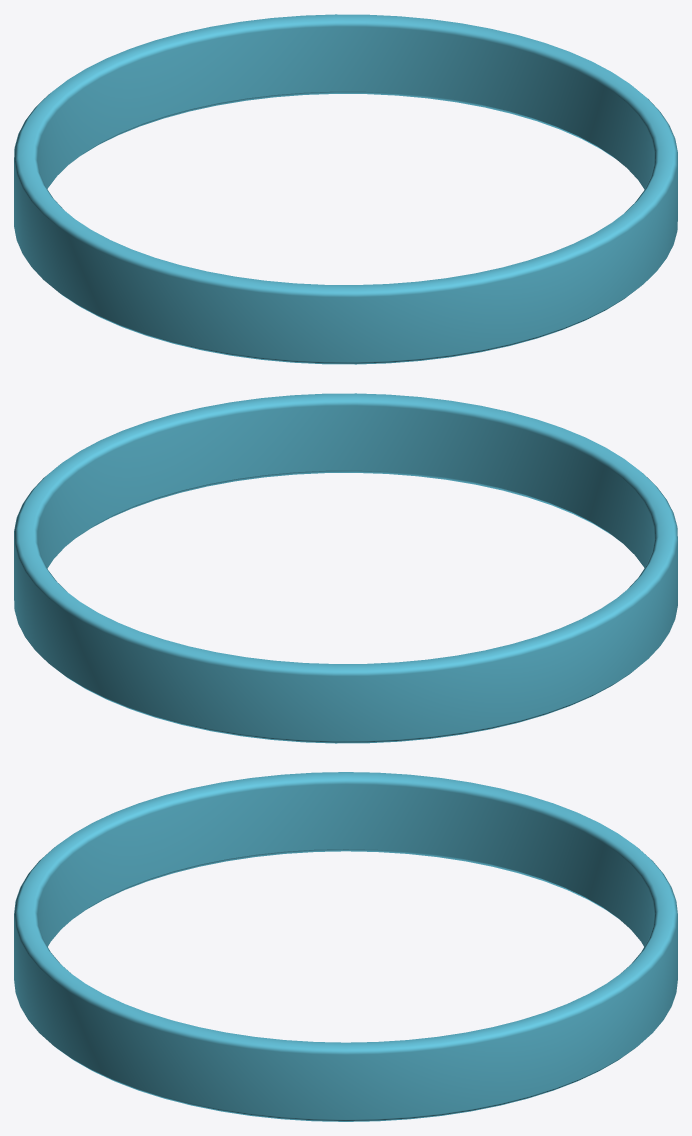
3 renders of one model, top to bottom at view 1: azimuth 30°, elevation 25°; view 2: azimuth 150°, elevation 25°; view 3: azimuth 270°, elevation 25°, orthographic.
Visible parts, largest first — view 1: seal_body; view 2: seal_body; view 3: seal_body.
Part boxes in pixels (x1,y1,x2,y2): seal_body: (14, 14, 677, 364); seal_body: (14, 393, 677, 743); seal_body: (14, 772, 677, 1121).
Size of the model in its own units: 0.0889 by 0.0108 by 0.0889.
